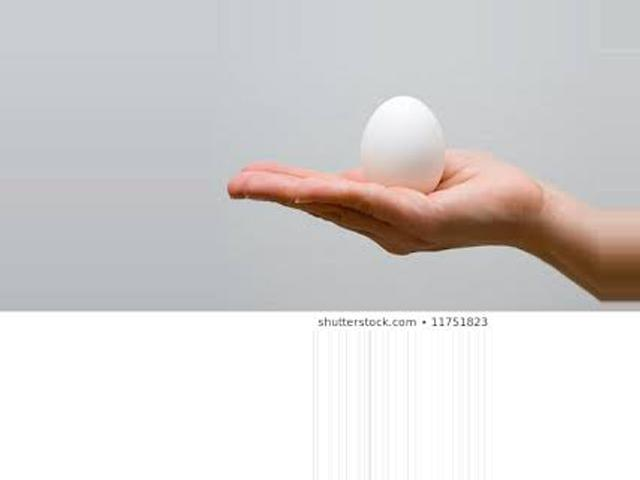egg: (361, 96, 440, 194)
